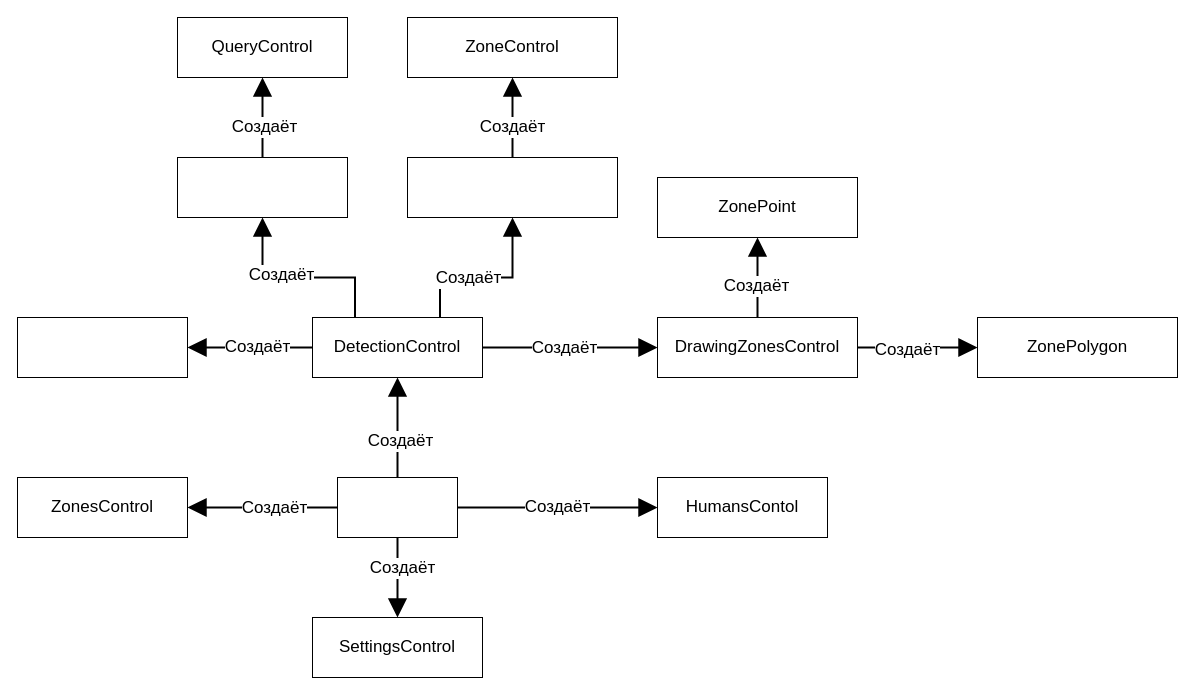
The diagram is 1195 pixels wide and 695 high, and some of its shapes have lost their labels. Here are the shapes that lost their labels. From the top down, the centre of each, then its label:
At point (262, 187): "QueriesControl".
At point (512, 187): "DetectionZonesControl".
At point (102, 347): "CameraDialogControl".
At point (397, 507): "Shell".
